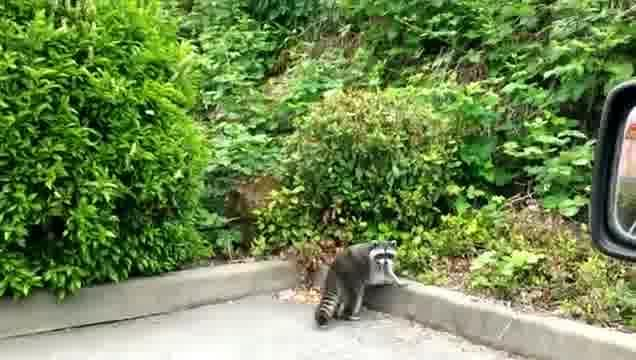raccoon: (316, 240, 406, 324)
